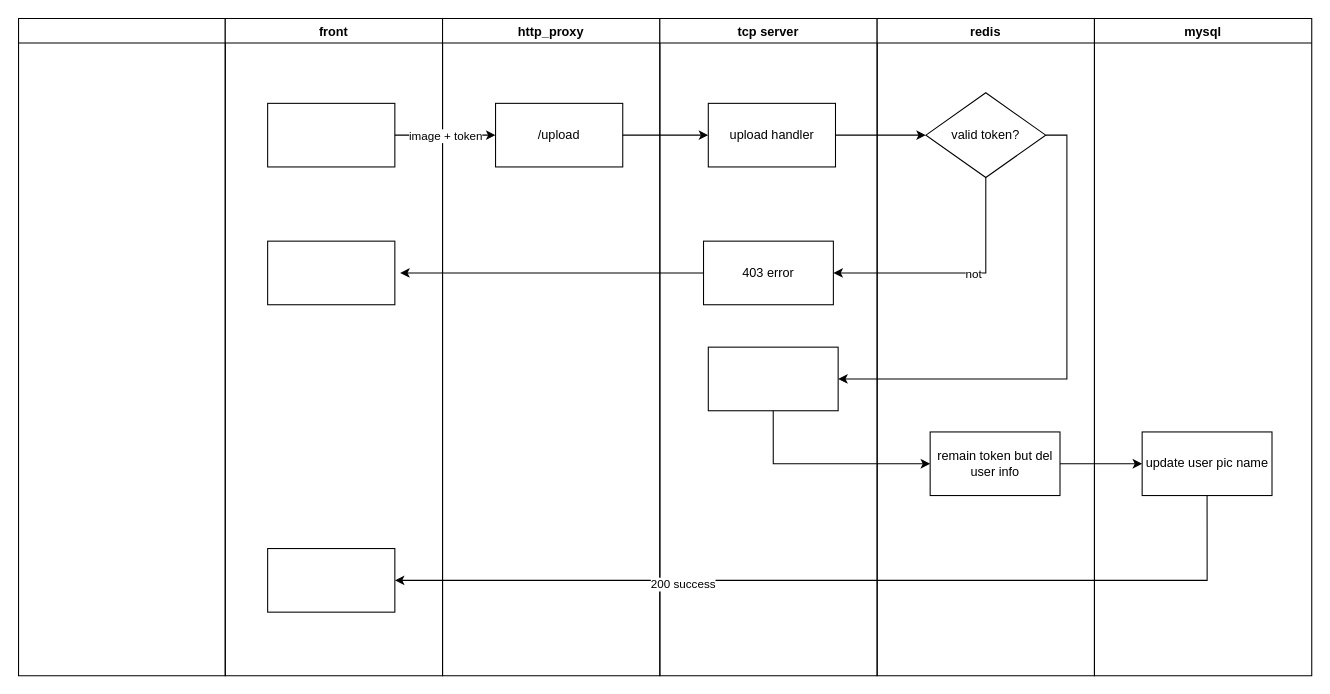
Some shapes in this 1330 by 694 pixel diagram are drawn without their labels. The shapes that lost their labels are listed below. From the top down, each one's centre as x and y in pixels, then its label:
(x=331, y=134): user info page
(x=331, y=272): display 403
(x=121, y=346): user
(x=772, y=378): save file
(x=331, y=579): display success
